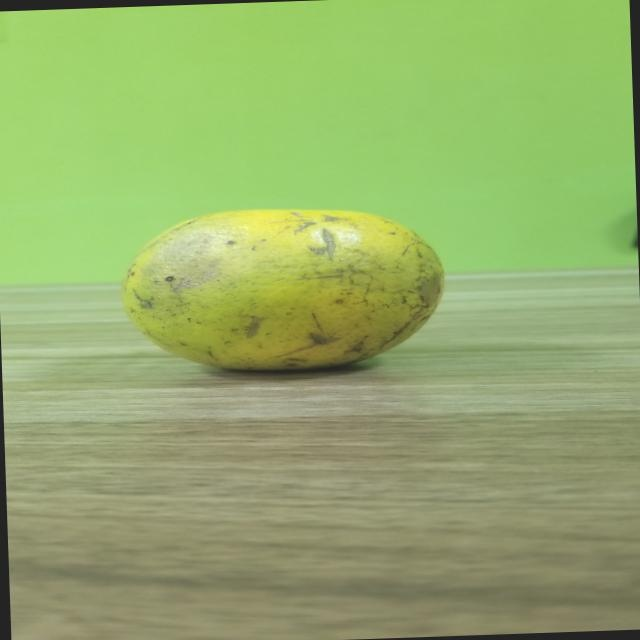agrume: (120, 198, 466, 394)
